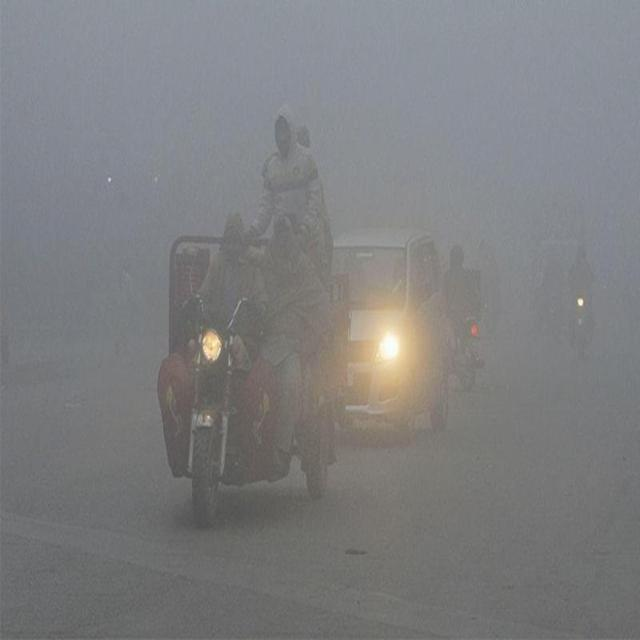Car: (332, 231, 450, 429)
Cycle: (566, 239, 596, 361)
